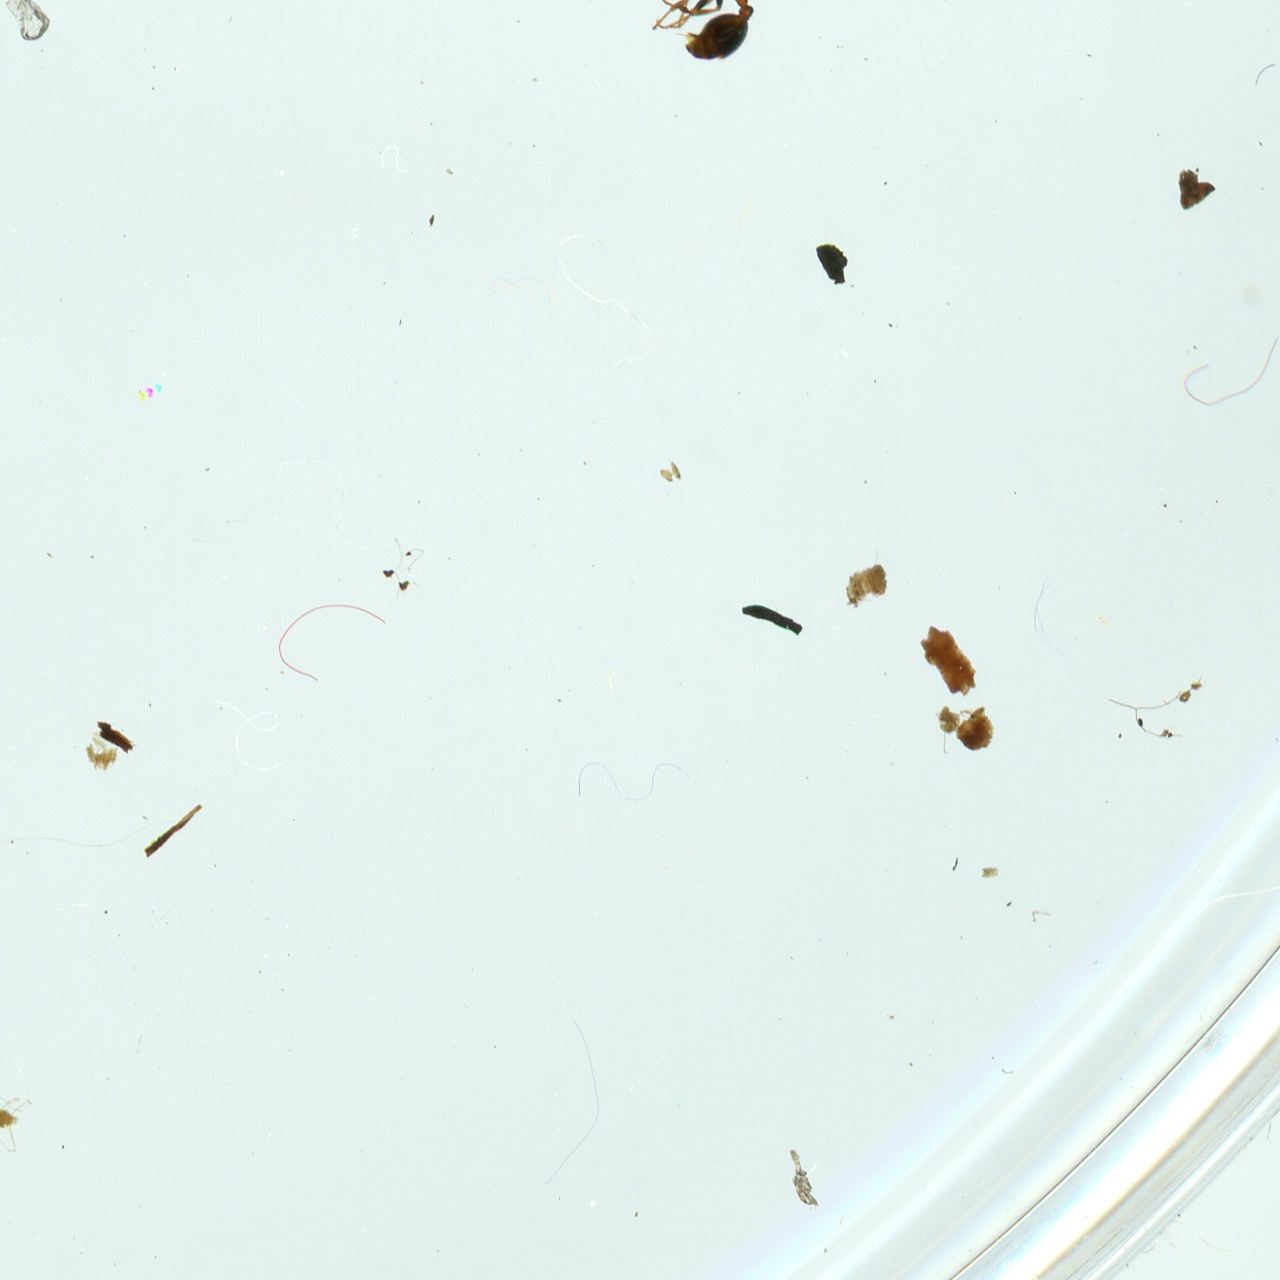arthropod: (602, 0, 763, 69), (0, 1078, 36, 1157)
